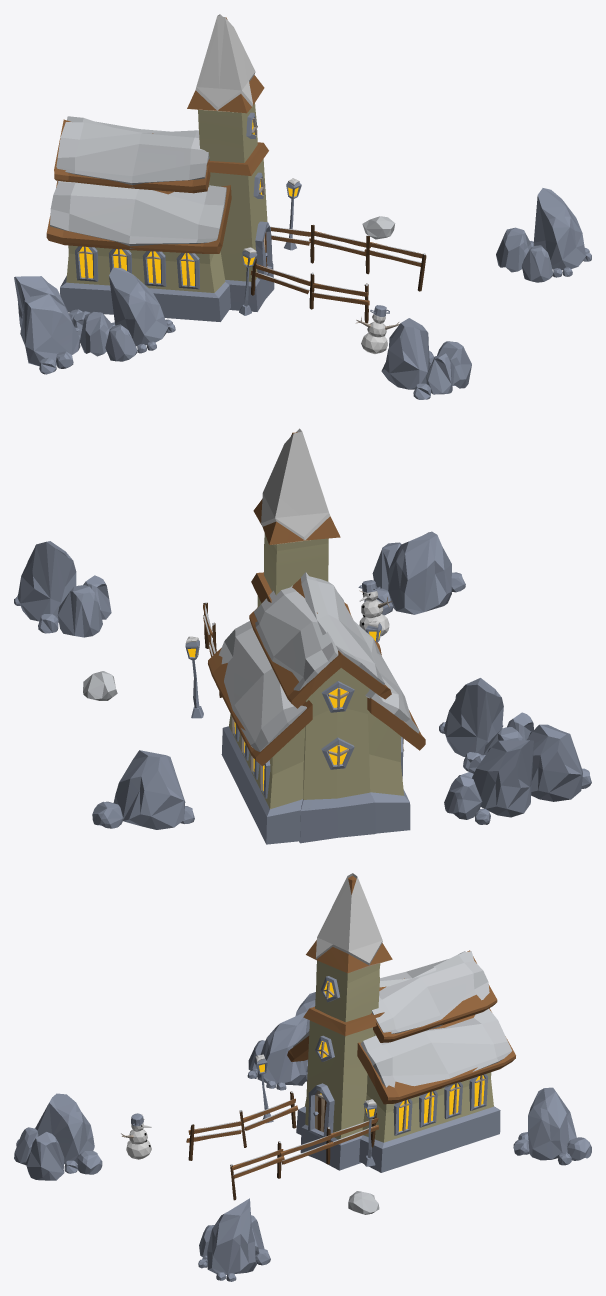
File: Church.glb
3 renders of one model, top to bottom at view 1: azimuth 30°, elevation 25°; view 2: azimuth 150°, elevation 25°; view 3: azimuth 270°, elevation 25°, orthographic. The views are drawn at different scales.
Visible parts, largest first — view 1: church, rock_group_02, rock_group_02.001, rock_group_04, rock_group_03.001, rock_group_01, snowman_01, fence_snowy_02.001, fence_snowy_02, fence_snowy_02.004, fence_snowy_02.003, snow_pile_01 (+1 smaller); view 2: church, rock_group_02, rock_group_01, rock_group_04, rock_group_03, rock_group_02.001, rock_group_03.001, snowman_01, snow_pile_01, streetlamp_02; view 3: church, rock_group_04, rock_group_02, rock_group_03, rock_group_02.001, snowman_01, fence_snowy_02, fence_snowy_02.003, fence_snowy_02.004, fence_snowy_02.001, snow_pile_01, fence_snowy_02.002.
Part boxes in pixels (x1,y1,x2,y2): church: (46,14,274,321); rock_group_02: (496,188,591,282); rock_group_02.001: (80,267,175,361); rock_group_04: (381,318,471,399); rock_group_03.001: (20,294,81,374); rock_group_01: (14,276,90,332); snowman_01: (355,305,399,353); fence_snowy_02.001: (312,283,369,323); fence_snowy_02: (250,258,310,295); fence_snowy_02.004: (364,235,426,274); fence_snowy_02.003: (309,224,370,263); snow_pile_01: (362,216,395,239); church: (208,428,425,844); rock_group_02: (14,541,111,637); rock_group_01: (444,740,533,824); rock_group_04: (364,531,465,615); rock_group_03: (92,750,194,829); rock_group_02.001: (439,678,533,771); rock_group_03.001: (526,724,591,801); snowman_01: (358,580,392,636); snow_pile_01: (83,671,117,700); streetlamp_02: (185,636,203,718); church: (287,873,515,1172); rock_group_04: (14,1093,102,1180); rock_group_02: (198,1198,270,1281); rock_group_03: (513,1087,591,1165); rock_group_02.001: (247,1011,307,1090); snowman_01: (121,1113,151,1159); fence_snowy_02: (243,1091,298,1130); fence_snowy_02.003: (280,1127,333,1164); fence_snowy_02.004: (231,1141,284,1178); fence_snowy_02.001: (186,1121,243,1160); snow_pile_01: (348,1191,379,1214); fence_snowy_02.002: (330,1112,378,1147).
Bounding box in the file's own units: 44.53 × 23.52 × 43.42.
